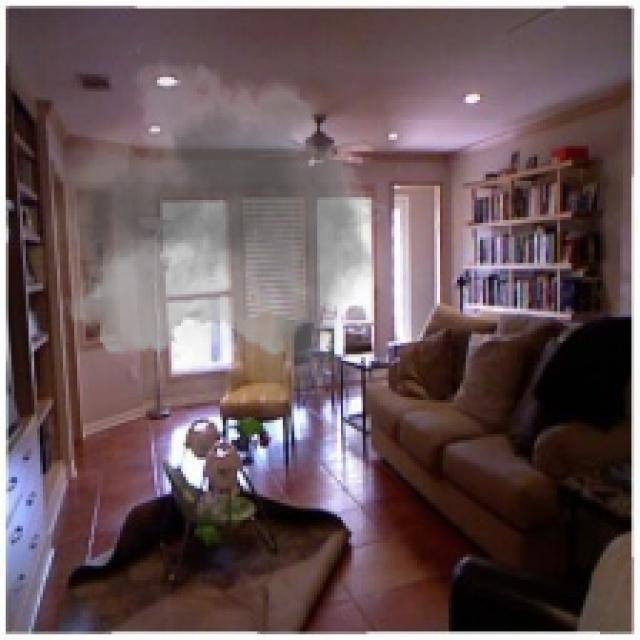Smoke: (46, 42, 400, 434)
